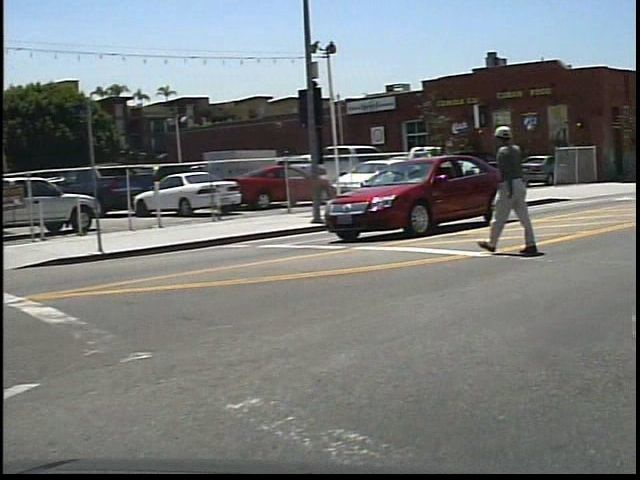person: (490, 115, 552, 264)
